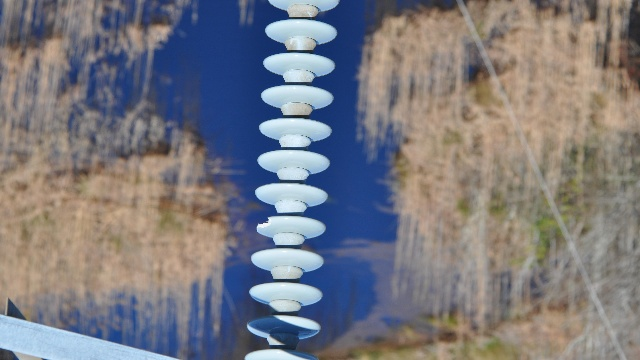broken_local: (252, 214, 273, 235)
insulator_unspecified: (243, 0, 342, 358)
